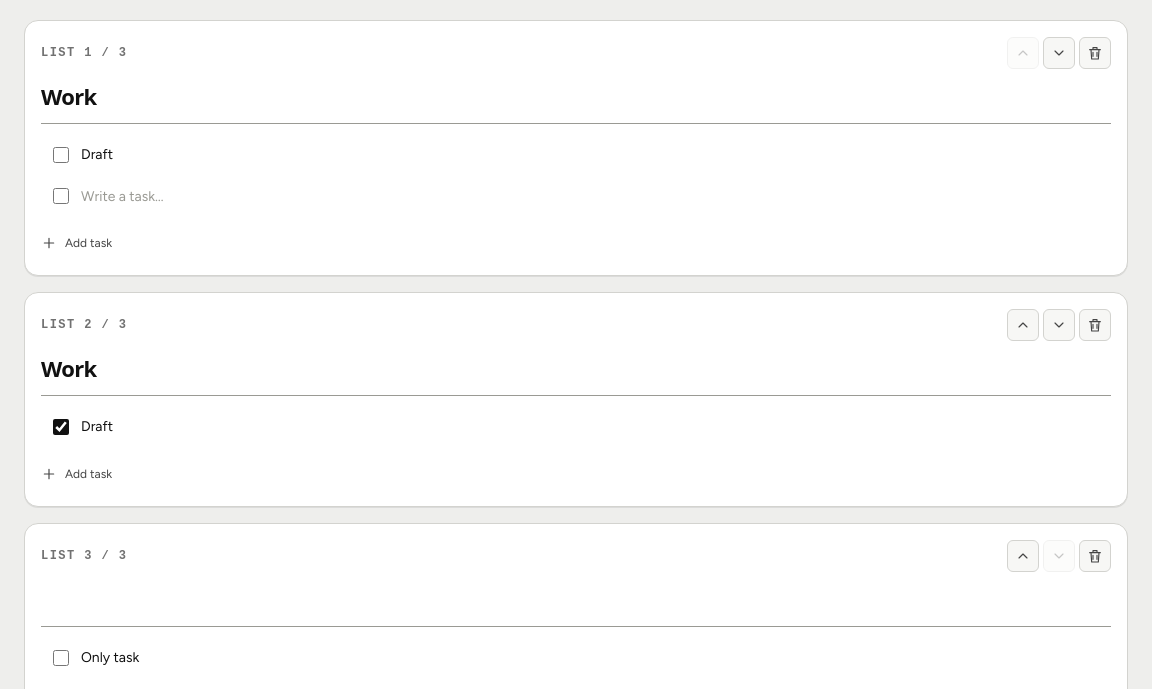
Test: VisualEditor destructive confirmation › abandons a pending question when another control is used
Click the button named "Remove List 1: Work". click: (1095, 53)
box: left=1079, top=37, right=1111, bottom=69
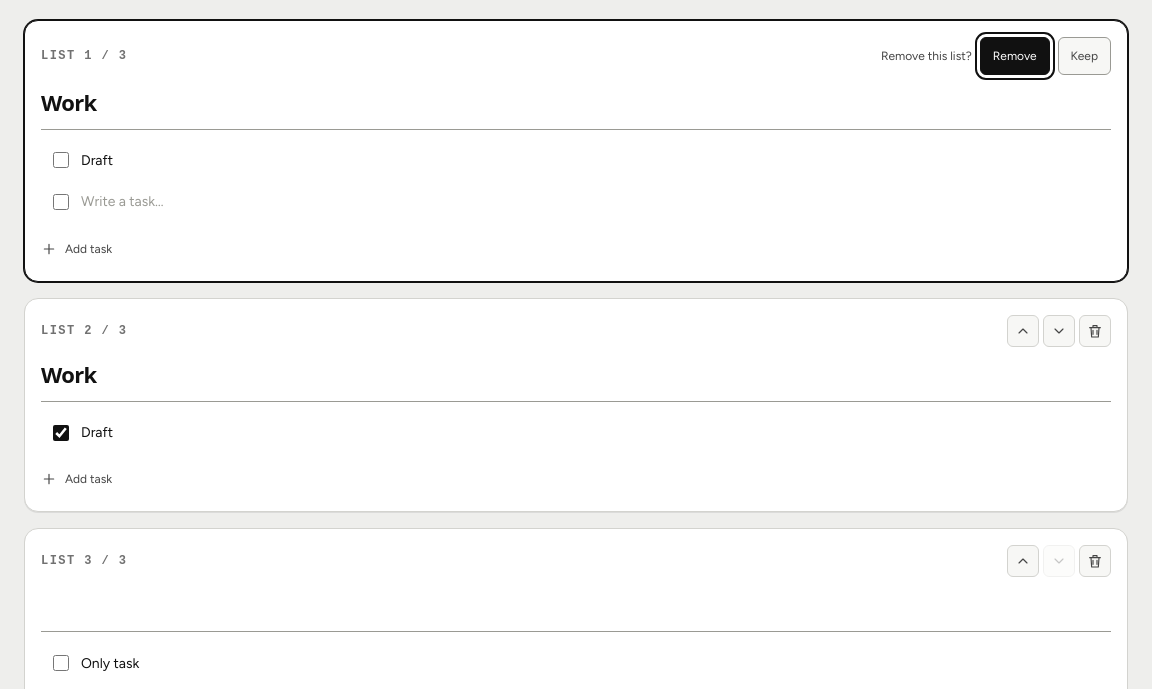
Click the button named "Move List 2: Work up". click: (1023, 331)
box: left=1007, top=315, right=1039, bottom=347
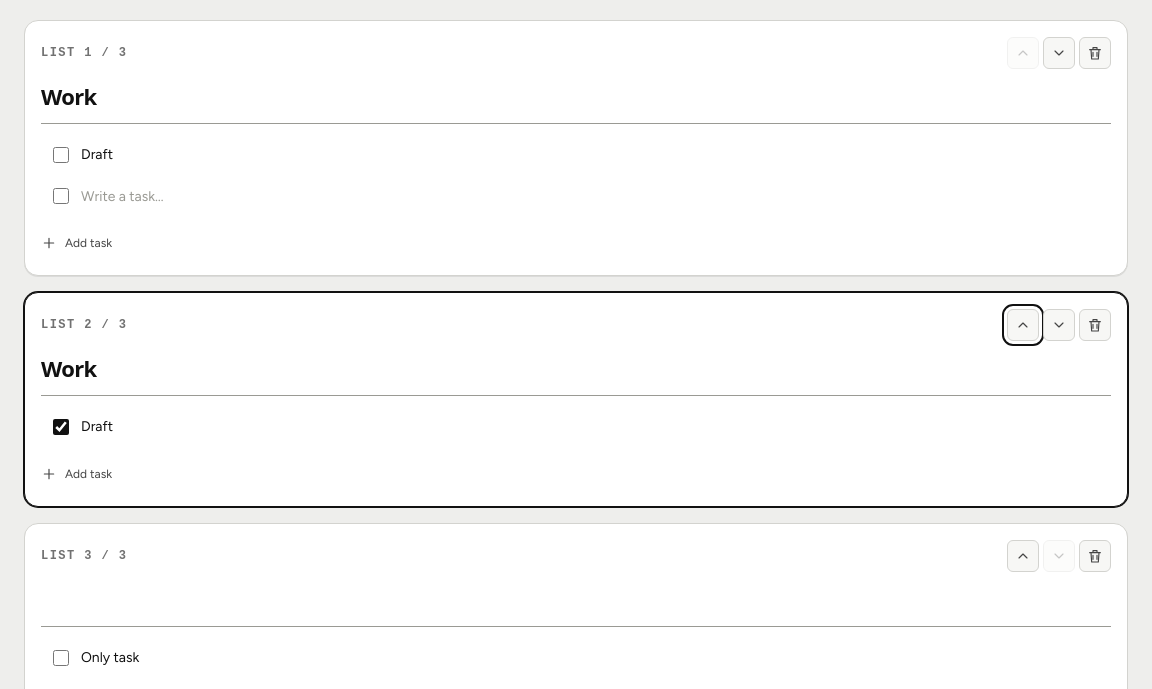
Expected: the text "Remove this list?" is gone
